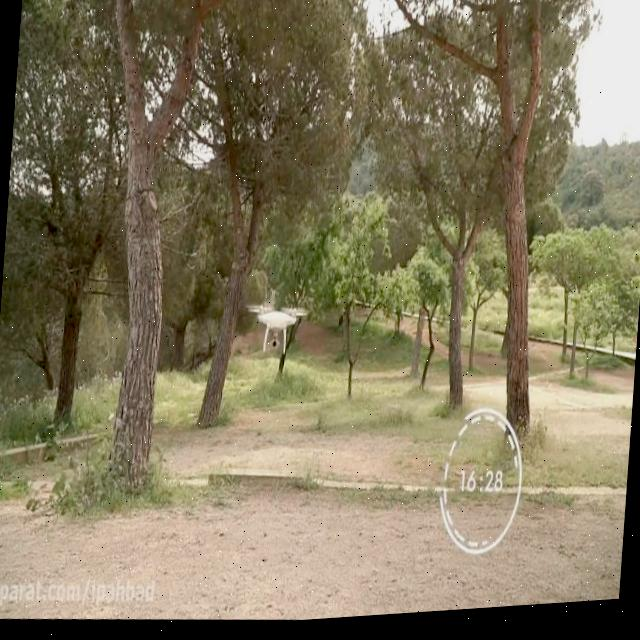drone: (236, 296, 317, 367)
